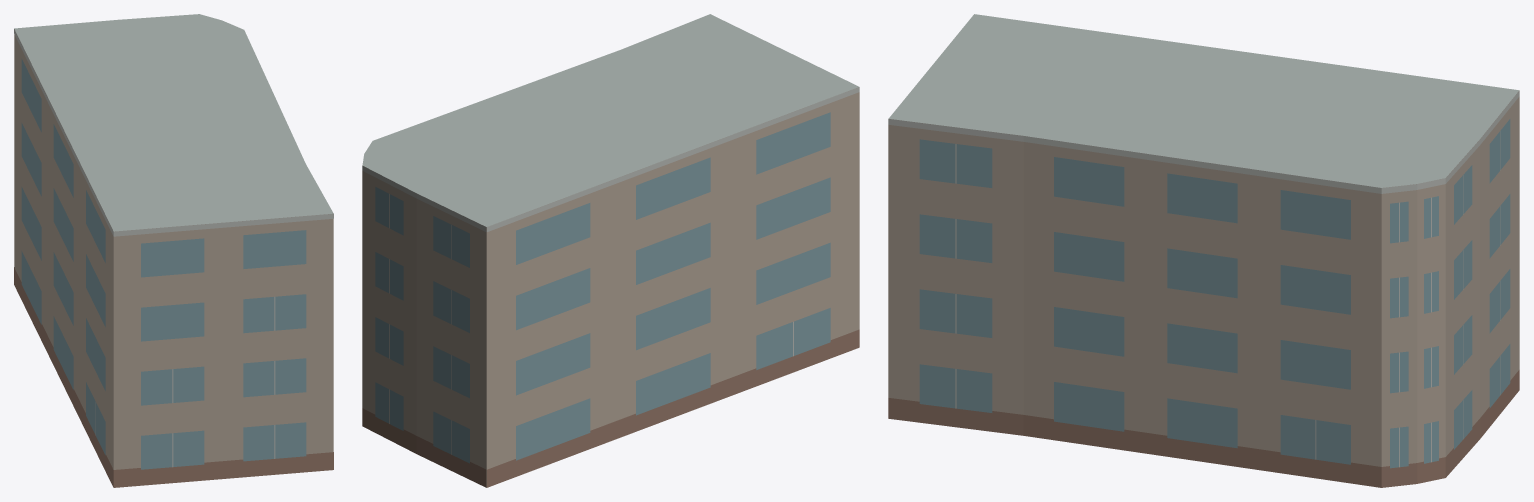
The model's file is survey-upis-32889907.glb.
3 renders of one model, left to right at view 1: azimuth 30°, elevation 25°; view 2: azimuth 150°, elevation 25°; view 3: azimuth 270°, elevation 25°, orthographic. The views are drawn at different scales.
Visible parts, largest first — view 1: survey-upis-32889907.tmp; view 2: survey-upis-32889907.tmp; view 3: survey-upis-32889907.tmp.
Boxes of the visible parts, x1,y1,x2,y2 form: survey-upis-32889907.tmp: [14, 14, 333, 487]; survey-upis-32889907.tmp: [362, 14, 859, 487]; survey-upis-32889907.tmp: [888, 14, 1519, 487].
Bounding box in the file's own units: 15.19 × 12.2 × 23.28.
